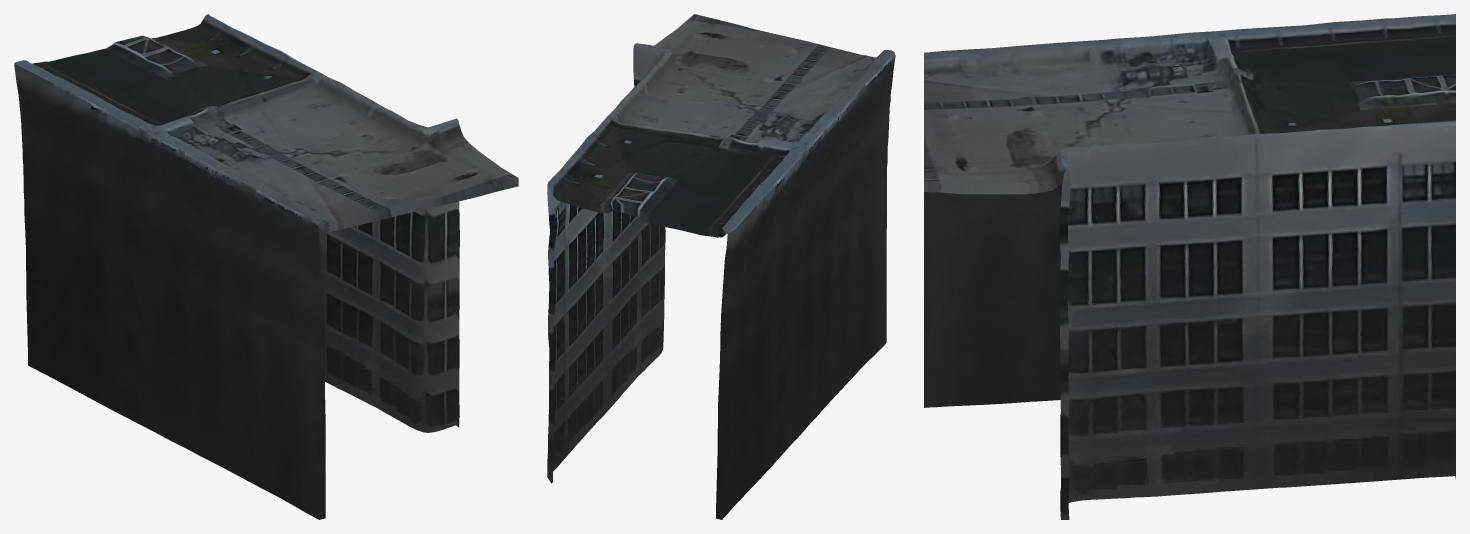
The model's file is z20-167767-405236-h1-yup-uvflip-v3-world.glb.
3 renders of one model, left to right at view 1: azimuth 30°, elevation 25°; view 2: azimuth 150°, elevation 25°; view 3: azimuth 270°, elevation 25°, orthographic. The views are drawn at different scales.
Bounding box in the file's own units: 20.72 × 22.76 × 30.32.
Materials: 1 (1 with a texture image).
